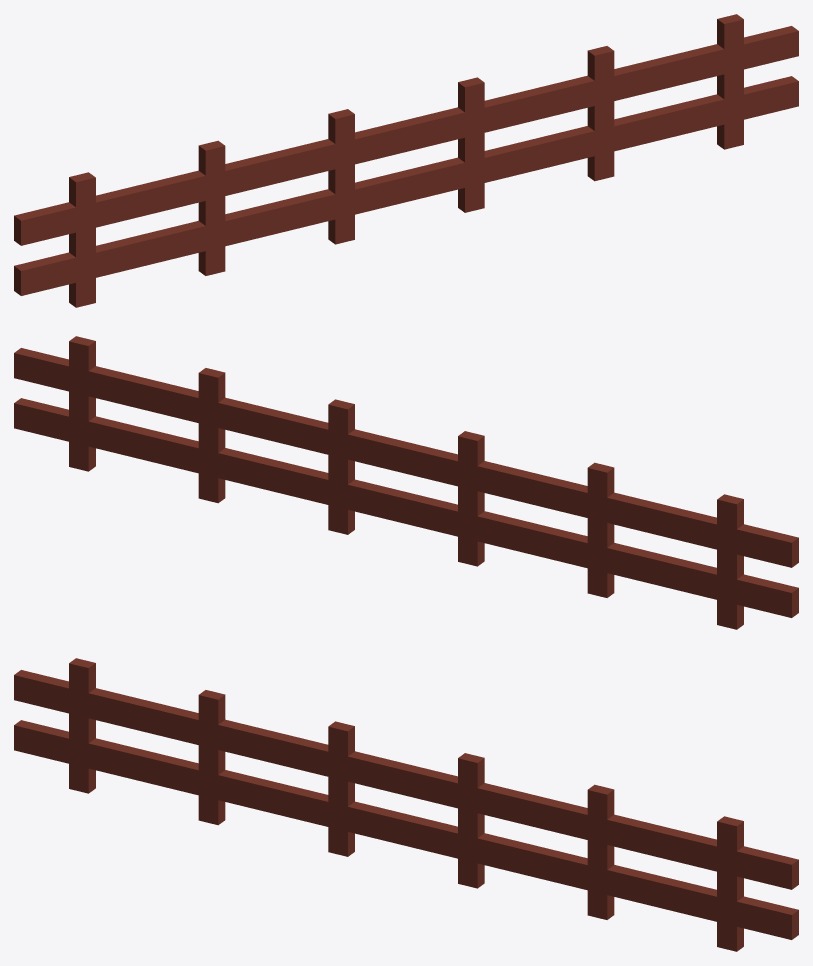
Rendered from LongFence.fbx.
3 renders of one model, top to bottom at view 1: azimuth 30°, elevation 25°; view 2: azimuth 150°, elevation 25°; view 3: azimuth 330°, elevation 25°, orthographic.
Parts seen in each view (by area): view 1: Long_Fence.002; view 2: Long_Fence.002; view 3: Long_Fence.002.
Boxes of the visible parts, box(x1,y1,x2,y2) form: Long_Fence.002: box(14, 14, 798, 307); Long_Fence.002: box(14, 336, 798, 629); Long_Fence.002: box(14, 658, 798, 951).
Bounding box in the file's own units: 509 × 78.55 × 8.11.
